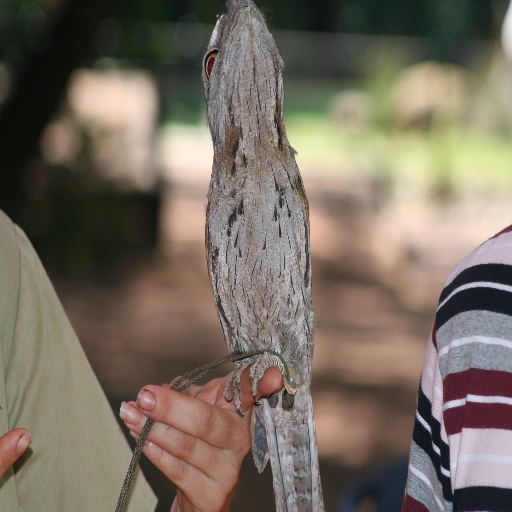hand: (132, 370, 258, 506), (0, 424, 35, 479)
